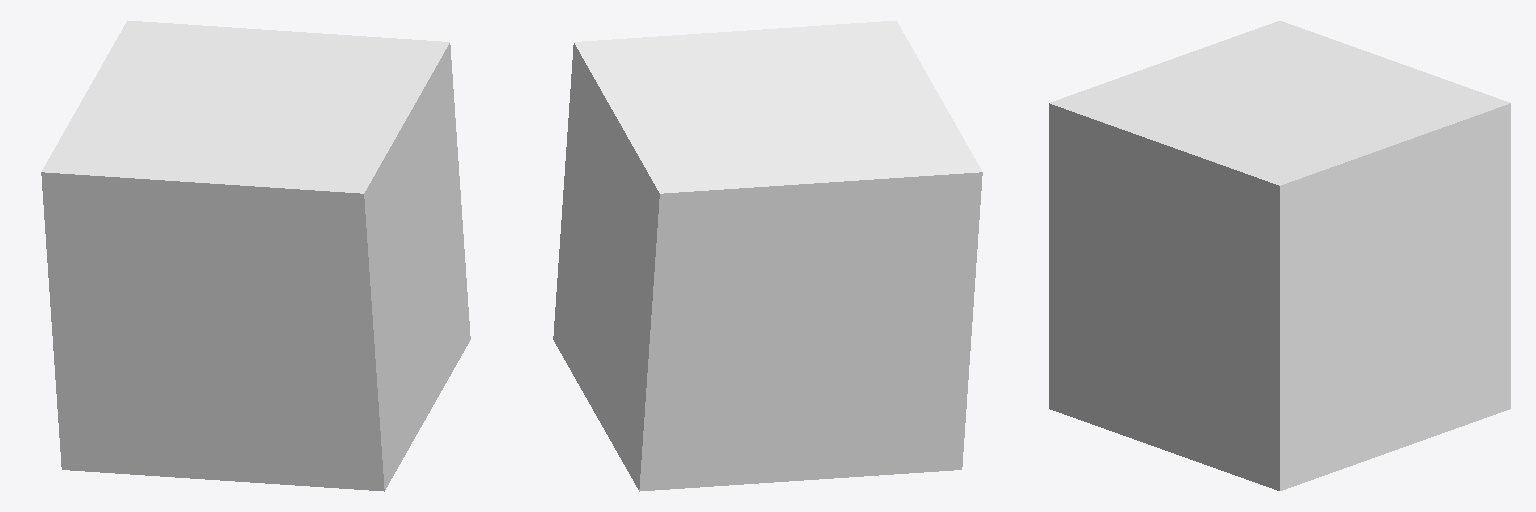
URDF robot description (panda):
<?xml version="1.0" ?>


<!-- =================================================================================== -->
<!-- |    This document was autogenerated by xacro from panda_arm.urdf.xacro           | -->
<!-- |    EDITING THIS FILE BY HAND IS NOT RECOMMENDED                                 | -->
<!-- =================================================================================== -->
<robot name="panda" xmlns:xacro="http://www.ros.org/wiki/xacro">
  <link name="panda_link0">
    <visual>
      <geometry>
        <mesh filename="meshes/visual/link0.dae"/>
      </geometry>
      <material name="panda_white"/>
    </visual>
    <collision>
      <geometry>
        <mesh filename="meshes/collision/link0.stl"/>
      </geometry>
      <material name="panda_white"/>
    </collision>
    <inertial>
      <origin xyz="3.875e-03 2.081e-03 -0.1750" rpy="0 0 0"/>
      <mass value="4.97"/>
      <inertia ixx="7.0337e-01" iyy="7.0661e-01" izz="9.1170e-03" ixy="-1.3900e-04" ixz="6.7720e-03" iyz="1.9169e-02"/>
      </inertial>
  </link>
  <link name="panda_link1">
    <visual>
      <geometry>
        <mesh filename="meshes/visual/link1.dae"/>
      </geometry>
      <material name="panda_white"/>
    </visual>
    <collision>
      <geometry>
        <mesh filename="meshes/collision/link1.stl"/>
      </geometry>
      <material name="panda_white"/>
    </collision>
    <inertial>
      <origin xyz="-3.141e-03 -2.872e-02  3.495e-03" rpy="0 0 0"/>
      <mass value="0.647"/>
      <inertia ixx="7.962e-03" iyy="2.811e-02" izz="2.5995e-02" ixy="-3.9250e-03" ixz="1.0254e-02" iyz="7.04e-04"/>
     </inertial>
  </link>
  <joint name="panda_joint1" type="revolute">
    <safety_controller k_position="100.0" k_velocity="40.0" soft_lower_limit="-2.8973" soft_upper_limit="2.8973"/>
    <origin rpy="0 0 0" xyz="0 0 0.333"/>
    <parent link="panda_link0"/>
    <child link="panda_link1"/>
    <axis xyz="0 0 1"/>
    <dynamics damping="1.0" />
    <limit effort="87" lower="-2.8973" upper="2.8973" velocity="2.1750"/>
  </joint>
  <link name="panda_link2">
    <visual>
      <geometry>
        <mesh filename="meshes/visual/link2.dae"/>
      </geometry>
      <material name="panda_white"/>
    </visual>
    <collision>
      <geometry>
        <mesh filename="meshes/collision/link2.stl"/>
      </geometry>
      <material name="panda_white"/>
    </collision>
    <inertial>
      <origin xyz="2.751e-02 3.95252e-02 -6.6502e-02" rpy="0 0 0"/>
      <mass value="3.229"/>
      <inertia ixx="3.7242e-02" iyy="3.6155e-02" izz="1.083e-02" ixy="-4.761e-03" ixz="-1.1396e-02" iyz="-1.2805e-02"/>
    </inertial>
  </link>
  <joint name="panda_joint2" type="revolute">
    <safety_controller k_position="100.0" k_velocity="40.0" soft_lower_limit="-1.7628" soft_upper_limit="1.7628"/>
    <origin rpy="-1.57079632679 1.5 0" xyz="0 0 0"/>
    <parent link="panda_link1"/>
    <child link="panda_link2"/>
    <axis xyz="0 0 1"/>
    <dynamics damping="1.0" />
    <limit effort="87" lower="-1.7628" upper="1.7628" velocity="2.1750"/>
  </joint>
  <link name="panda_link3">
    <visual>
      <geometry>
        <mesh filename="meshes/visual/link3.dae"/>
      </geometry>
      <material name="panda_white"/>
    </visual>
    <collision>
      <geometry>
        <mesh filename="meshes/collision/link3.stl"/>
      </geometry>
      <material name="panda_white"/>
    </collision>
    <inertial>
      <origin xyz="-5.317e-02 1.04419e-01 2.7454e-02" rpy="0 0 0"/>
      <mass value="3.588"/>
      <inertia ixx="2.5853e-02" iyy="1.9552e-02" izz="2.8323e-02" ixy="7.796e-03" ixz="-1.3320e-03" iyz="8.6410e-03"/>
    </inertial>

  </link>
  <joint name="panda_joint3" type="revolute">
    <safety_controller k_position="100.0" k_velocity="40.0" soft_lower_limit="-2.8973" soft_upper_limit="2.8973"/>
    <origin rpy="1.57079632679 0 0" xyz="0 -0.316 0"/>
    <parent link="panda_link2"/>
    <child link="panda_link3"/>
    <axis xyz="0 0 1"/>
    <dynamics damping="1.0" />
    <limit effort="87" lower="-2.8973" upper="2.8973" velocity="2.1750"/>
  </joint>
  <link name="panda_link4">
    <visual>
      <geometry>
        <mesh filename="meshes/visual/link4.dae"/>
      </geometry>
      <material name="panda_white"/>
    </visual>
    <collision>
      <geometry>
        <mesh filename="meshes/collision/link4.stl"/>
      </geometry>
      <material name="panda_white"/>
    </collision>
    <inertial>
      <origin xyz="-1.1953e-02 4.1065e-02 -3.8437e-02" rpy="0 0 0"/>
      <mass value="1.226"/>
      <inertia ixx="3.5549e-02" iyy="2.9474e-02" izz="8.627e-03" ixy="-2.1170e-03" ixz="-4.0370e-03" iyz="2.29e-04"/>
      </inertial>
  </link>
  <joint name="panda_joint4" type="revolute">
    <safety_controller k_position="100.0" k_velocity="40.0" soft_lower_limit="-3.0718" soft_upper_limit="-0.0698"/>
    <origin rpy="1.57079632679 0 0" xyz="0.0825 0 0"/>
    <parent link="panda_link3"/>
    <child link="panda_link4"/>
    <axis xyz="0 0 1"/>
    <dynamics damping="1.0" />
    <limit effort="87" lower="-3.0718" upper="-0.0698" velocity="2.1750"/>
  </joint>
  <link name="panda_link5">
    <visual>
      <geometry>
        <mesh filename="meshes/visual/link5.dae"/>
      </geometry>
      <material name="panda_white"/>
    </visual>
    <collision>
      <geometry>
        <mesh filename="meshes/collision/link5.stl"/>
      </geometry>
      <material name="panda_white"/>
    </collision>
    <inertial>
      <origin xyz="6.0149e-02 -1.4117e-02 -1.0517e-02" rpy="0 0 0"/>
      <mass value="1.667"/>
      <inertia ixx="1.964e-03" iyy="4.354e-03" izz="5.4330e-03" ixy="1.09e-04" ixz="-1.158e-03" iyz="3.41e-04"/>
    </inertial>

  </link>
  <joint name="panda_joint5" type="revolute">
    <safety_controller k_position="100.0" k_velocity="40.0" soft_lower_limit="-2.8973" soft_upper_limit="2.8973"/>
    <origin rpy="-1.57079632679 0 0" xyz="-0.0825 0.384 0"/>
    <parent link="panda_link4"/>
    <child link="panda_link5"/>
    <axis xyz="0 0 1"/>
    <dynamics damping="1.0" />
    <limit effort="12" lower="-2.8973" upper="2.8973" velocity="2.6100"/>
  </joint>
  <link name="panda_link6">
    <visual>
      <geometry>
        <mesh filename="meshes/visual/link6.dae"/>
      </geometry>
      <material name="panda_white"/>
    </visual>
    <collision>
      <geometry>
        <mesh filename="meshes/collision/link6.stl"/>
      </geometry>
      <material name="panda_white"/>
    </collision>
     <inertial>
      <origin xyz="1.0517e-02 -4.252e-03 6.1597e-02" rpy="0 0 0"/>
      <mass value="0.7355"/>
      <inertia ixx="1.2516e-02" iyy="1.0027e-02" izz="4.8150e-03" ixy="-4.28e-04" ixz="-1.1960e-03" iyz="-7.4100e-04"/>
      </inertial>
  </link>
  <joint name="panda_joint6" type="revolute">
    <safety_controller k_position="100.0" k_velocity="40.0" soft_lower_limit="-0.0175" soft_upper_limit="3.7525"/>
    <origin rpy="1.57079632679 0 0" xyz="0 0 0"/>
    <parent link="panda_link5"/>
    <child link="panda_link6"/>
    <axis xyz="0 0 1"/>
    <dynamics damping="1.0" />
    <limit effort="12" lower="-0.0175" upper="3.7525" velocity="2.6100"/>
  </joint>
  <link name="panda_link7">
    <visual>
      <geometry>
        <mesh filename="meshes/visual/link7.dae"/>
      </geometry>
      <material name="panda_white"/>
    </visual>
    <collision>
      <geometry>
        <mesh filename="meshes/collision/link7.stl"/>
      </geometry>
      <material name="panda_white"/>
    </collision>
    <inertial>
        <mass value="0.45"/>
        <inertia ixx="0.3" ixy="0.0" ixz="0.0" iyy="0.3" iyz="0.0" izz="0.3"/>
      </inertial>
  </link>
  <joint name="panda_joint7" type="revolute">
    <safety_controller k_position="100.0" k_velocity="40.0" soft_lower_limit="-2.8973" soft_upper_limit="2.8973"/>
    <origin rpy="1.57079632679 0 0" xyz="0.088 0 0"/>
    <parent link="panda_link6"/>
    <child link="panda_link7"/>
    <axis xyz="0 0 1"/>
    <dynamics damping="1.0" />
    <limit effort="12" lower="-2.8973" upper="2.8973" velocity="2.6100"/>
  </joint>
  
<!--
  <link name="panda_link8">
    <inertial>
      <mass value="0.001"/>
      <inertia ixx="0.3" ixy="0.0" ixz="0.0" iyy="0.3" iyz="0.0" izz="0.3"/>
      </inertial>
  </link>

  <joint name="panda_joint8" type="fixed">
    <origin rpy="0 0 0" xyz="0 0 0.107"/>
    <parent link="panda_link7"/>
    <child link="panda_link8"/>
    <axis xyz="0 0 0"/>
    <dynamics damping="100" />
  </joint>
-->

  <joint name="panda_hand_joint" type="fixed">
    <parent link="panda_link7"/>
    <child link="panda_hand"/>
    <origin rpy="0 0 -0.7854" xyz="0 0 .105"/>
  </joint>

  <link name="panda_hand">
    <visual>
      <geometry>
        <mesh filename="meshes/visual/hand.dae"/>
      </geometry>
    </visual>
    <collision>
      <geometry>
        <mesh filename="meshes/collision/hand.stl"/>
      </geometry>
    </collision>
     <inertial>
        <mass value="0.0"/>
        <inertia ixx="0.1" ixy="0.0" ixz="0.0" iyy="0.1" iyz="0.0" izz="0.1"/>
      </inertial>

  </link>

  <joint name="panda_hand_joint2" type="fixed">
    <parent link="panda_hand"/>
    <child link="panda_hand2"/>
    <origin rpy="0 -1.5707963 0" xyz="0 0 0"/>
  </joint>
  <link name="panda_hand2">
    <visual>
      <origin rpy="0 0 0" xyz="0 0 0"/>
      <geometry>
        <box size="0.0001 0.0001 0.0001" />
      </geometry>
      <material name="">
        <color rgba="1 1 1 1"/>
      </material>
    </visual>
  </link>

  <link name="panda_leftfinger">
    <visual>
      <geometry>
        <mesh filename="meshes/visual/finger.dae"/>
      </geometry>
      <material name="aluminium"/>
    </visual>
    <collision>
      <geometry>
        <mesh filename="meshes/collision/finger.stl"/>
      </geometry>
      <material name="aluminium"/>
    </collision>
    <inertial>
        <mass value="0.01"/>
        <inertia ixx="0.1" ixy="0.0" ixz="0.0" iyy="0.1" iyz="0.0" izz="0.1"/>
      </inertial>
  </link>
  <link name="panda_rightfinger">
    <visual>
      <origin rpy="0 0 3.14159265359" xyz="0 0 0"/>
      <geometry>
        <mesh filename="meshes/visual/finger.dae"/>
      </geometry>
      <material name="aluminium"/>
    </visual>
    <collision>
      <origin rpy="0 0 3.14159265359" xyz="0 0 0"/>
      <geometry>
        <mesh filename="meshes/collision/finger.stl"/>
      </geometry>
      <material name="aluminium"/>
    </collision>
    <inertial>
        <mass value="0.01"/>
        <inertia ixx="0.1" ixy="0.0" ixz="0.0" iyy="0.1" iyz="0.0" izz="0.1"/>
      </inertial>
  </link>
  <joint name="panda_finger_joint1" type="fixed">
    <parent link="panda_hand"/>
    <child link="panda_leftfinger"/>
    <origin rpy="0 0 0" xyz="0 0 0.0584"/>
    <axis xyz="0 1 0"/>
    <limit effort="20" lower="0.0" upper="0.04" velocity="0.2"/>
  </joint>
  <joint name="panda_finger_joint2" type="fixed">
    <parent link="panda_hand"/>
    <child link="panda_rightfinger"/>
    <origin rpy="0 0 0" xyz="0 0 0.0584"/>
    <axis xyz="0 -1 0"/>
    <limit effort="20" lower="0.0" upper="0.04" velocity="0.2"/>
    <mimic joint="panda_finger_joint1"/>
  </joint>

  <!-- MATERIALS -->
  <material name="panda_white">
    <color rgba="1. 1. 1. 1."/>
  </material>
  <material name="aluminium">
    <color rgba="0.5 0.5 0.5 1"/>
  </material>

</robot>

--- Facts derived from the render (not from the file) ---
The picture shows the robot from 3 angles, left to right: view 1: azimuth 30°, elevation 25°; view 2: azimuth 150°, elevation 25°; view 3: azimuth 270°, elevation 25°; orthographic projection.
Robot: panda — 12 links, 11 joints (7 revolute, 4 fixed); root link panda_link0; default pose: joints at zero except 1 at the middle of their limits (panda_joint4 = -1.57).
Visible links, largest first — view 1: panda_hand2; view 2: panda_hand2; view 3: panda_hand2.
Link boxes in pixels (left/top/right/bottom): panda_hand2: left=41, top=20, right=470, bottom=491; panda_hand2: left=553, top=20, right=982, bottom=491; panda_hand2: left=1049, top=21, right=1510, bottom=490.
Bounding box of the posed robot: 0.0001 × 0.0001 × 0.0001 m (x, y, z).
Meshes: 10 distinct files referenced, 0 mesh visuals loaded (none loaded); not drawn: 11 (reference not matched to a file when rendering).